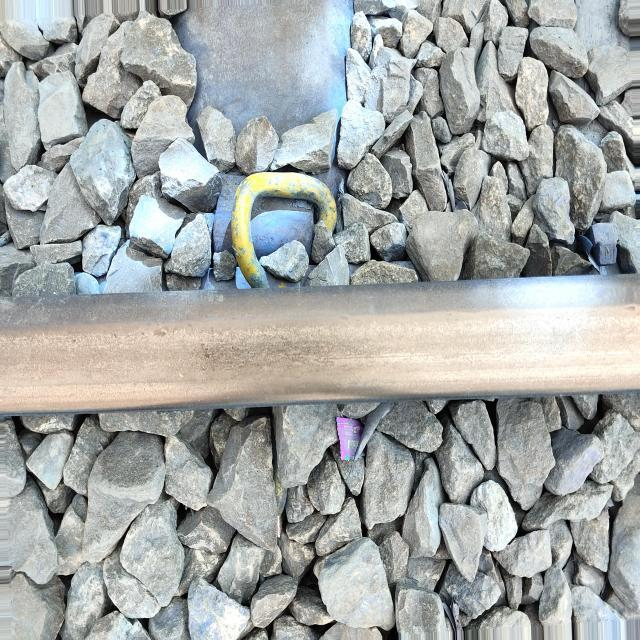Good Fasteners: (230, 172, 336, 288)
